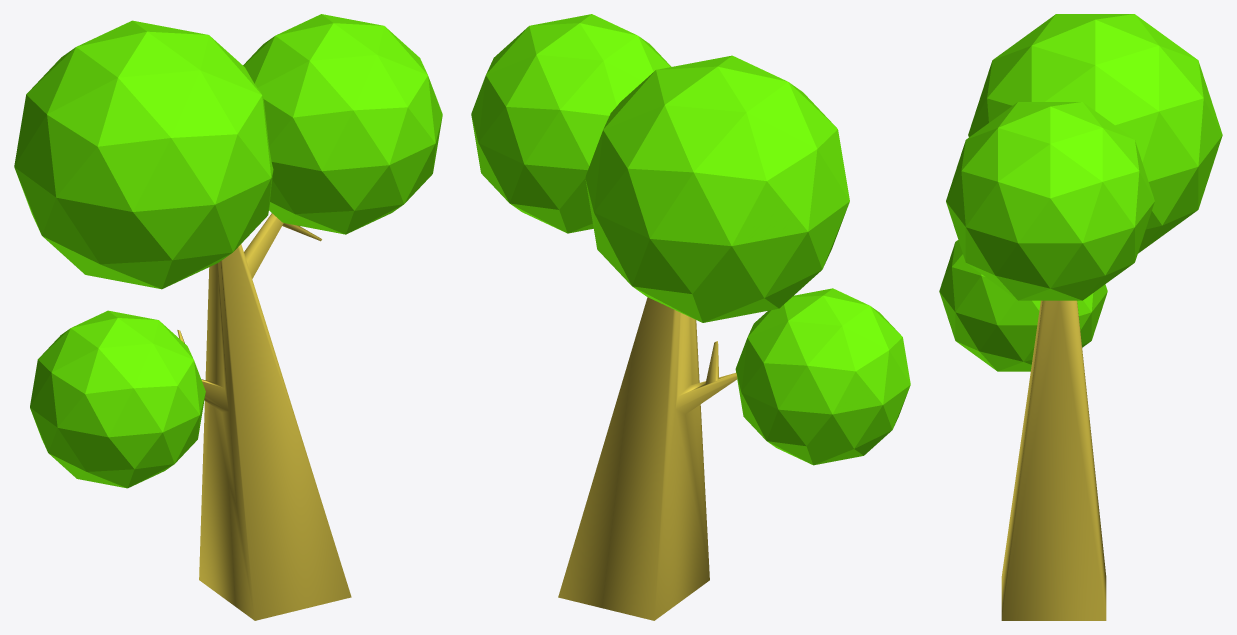
The model's file is treebetter1.fbx.
The picture shows the model from 3 angles, left to right: view 1: azimuth 30°, elevation 25°; view 2: azimuth 150°, elevation 25°; view 3: azimuth 270°, elevation 25°; orthographic projection. The views are drawn at different scales.
Visible parts, largest first — view 1: tree1; view 2: tree1; view 3: tree1.
Part boxes in pixels (x1,y1,x2,y2): tree1: (14, 14, 442, 620); tree1: (471, 14, 910, 620); tree1: (939, 14, 1222, 620).
Size of the model in its own units: 819 by 1120 by 542.
